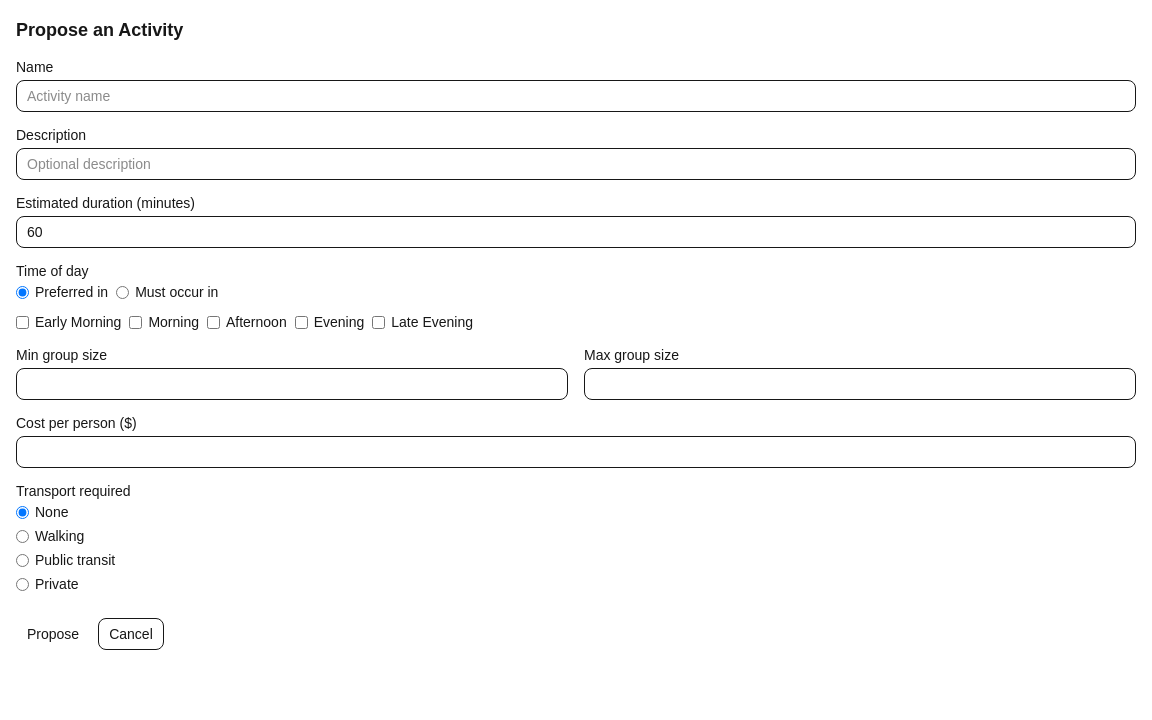
Test case: ProposeActivityFormView — validation: duration required › shows the duration error when duration is cleared and submitted
Type "Hiking" into the field labelled "Name".
click(576, 96); type("Hiking")  # box [16,80,1136,112]
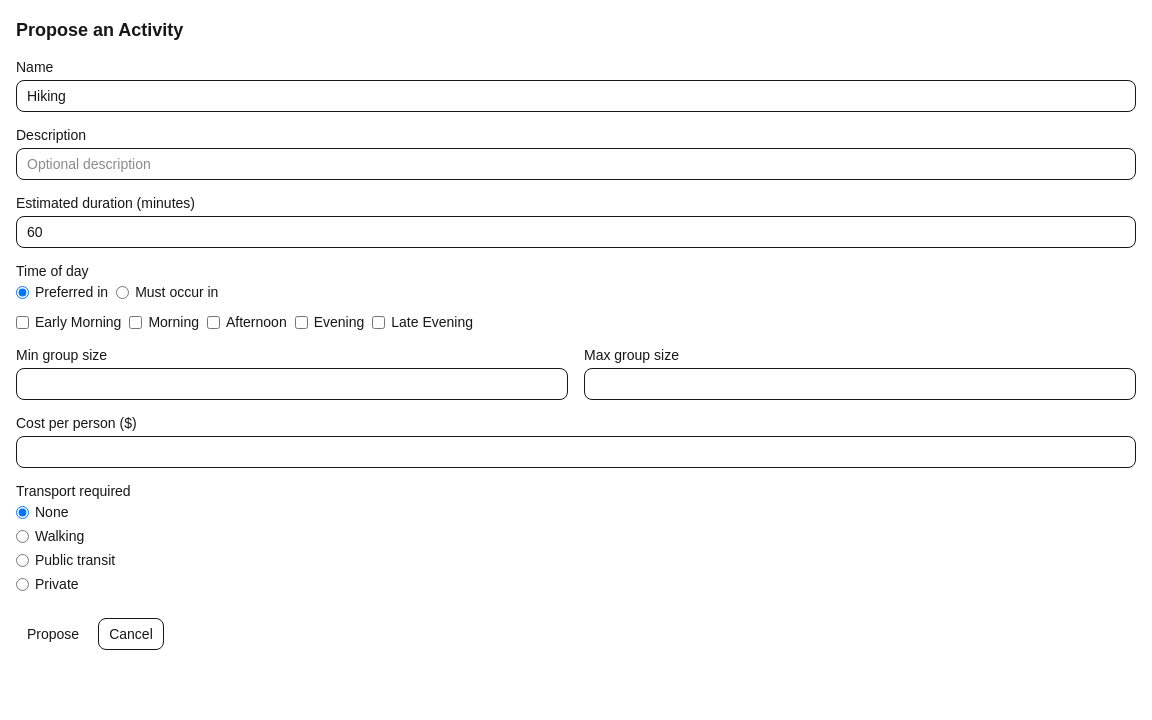
Clear the number field labelled "Estimated duration (minutes)" at (576, 232), box [16,216,1136,248]
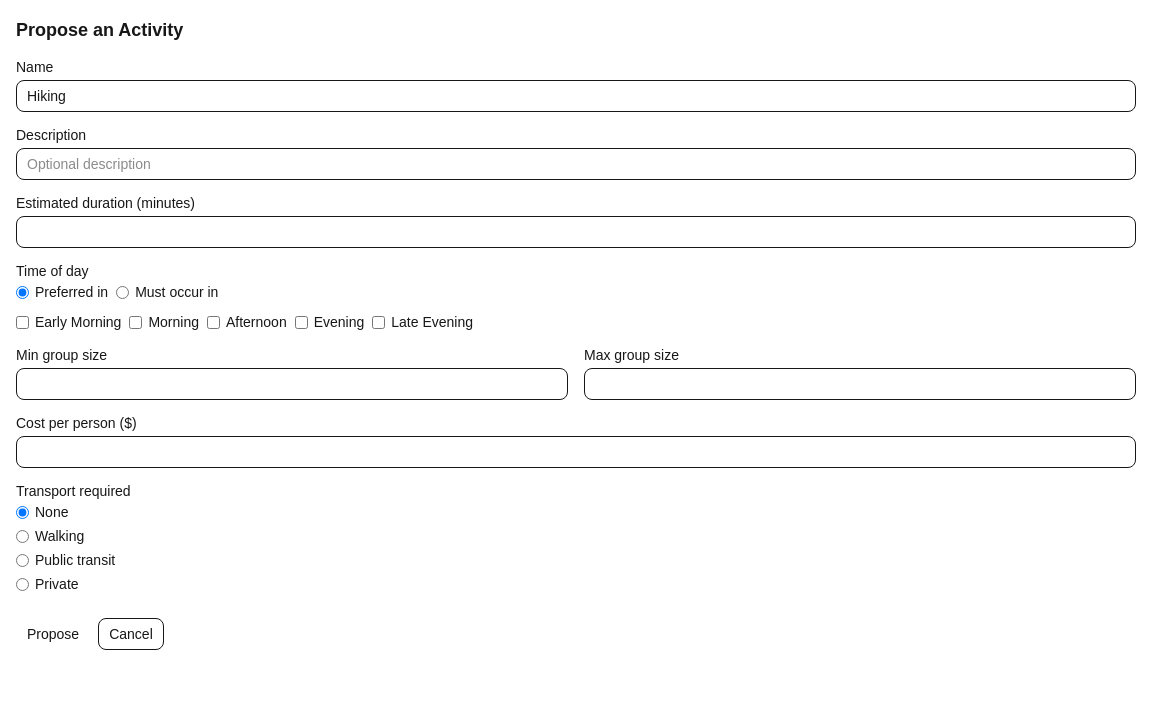
Click the button "Propose".
click(53, 634)  # box [16,618,90,650]
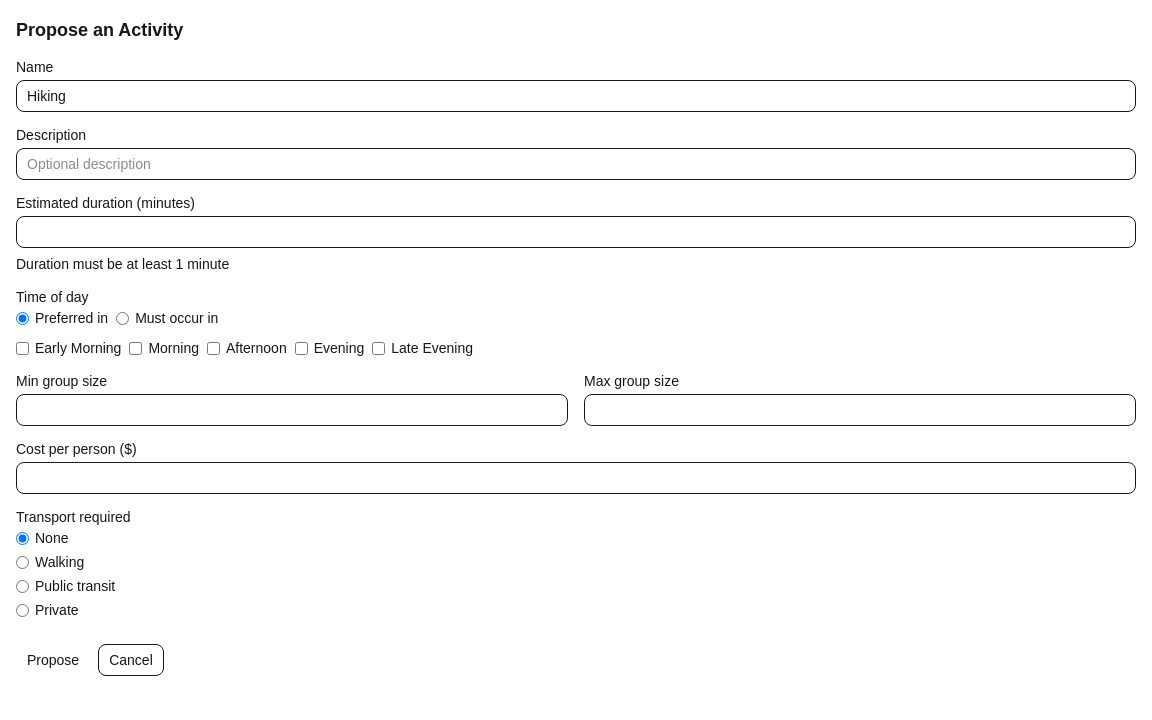
Expected: the text "Duration must be at least 1 minute" is shown, [16,256,229,272]
